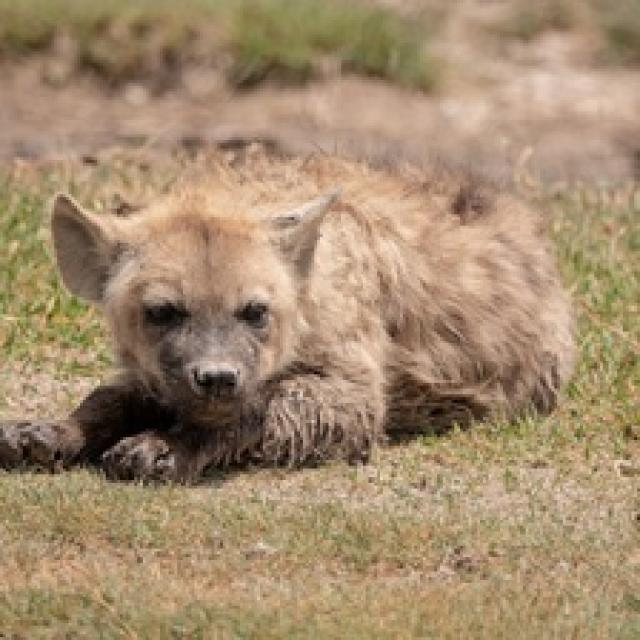hyena: (52, 166, 601, 475)
